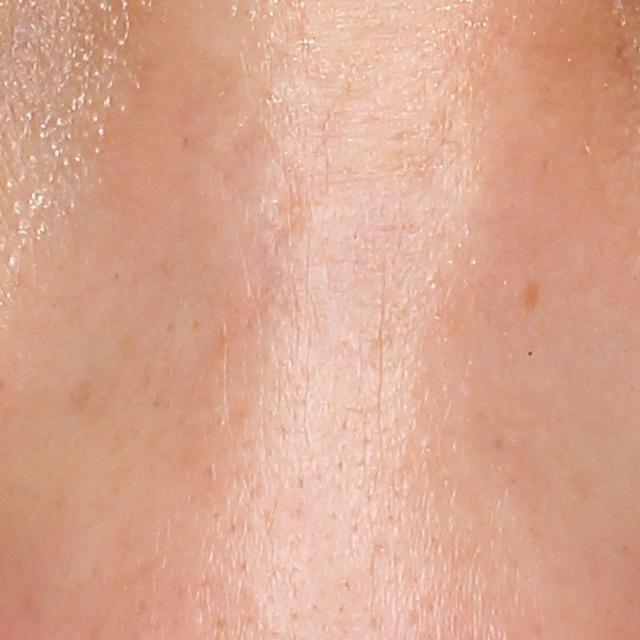melasma: (522, 275, 545, 317)
